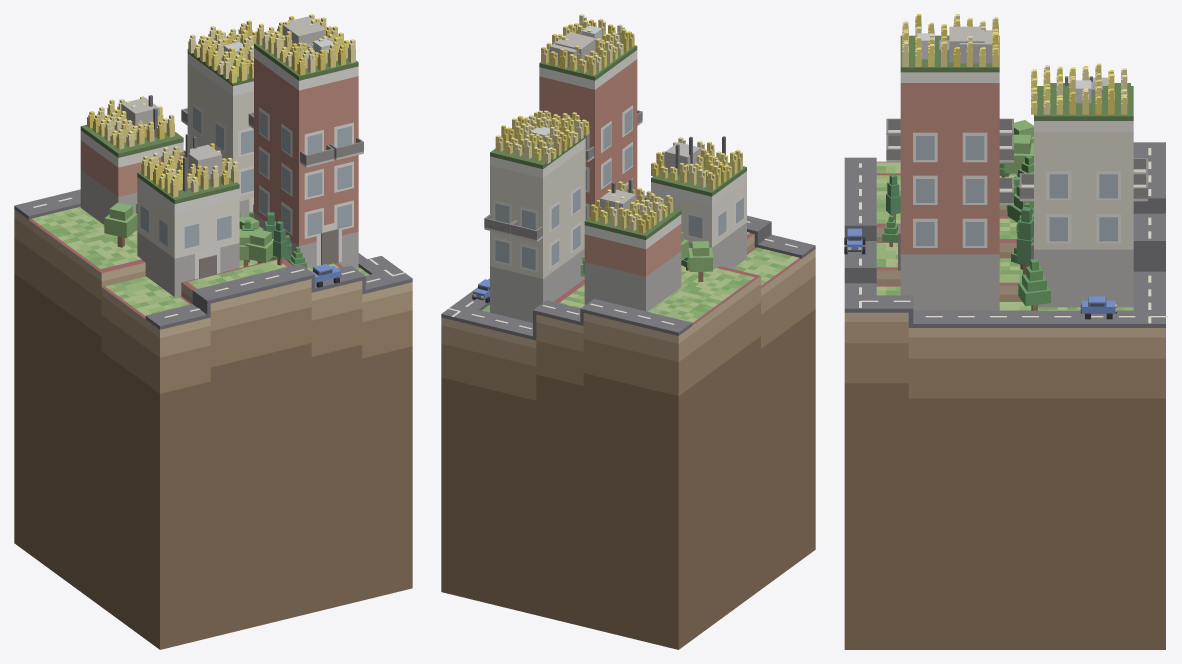
File: block_22_urbanfarm_40.glb
The picture shows the model from 3 angles, left to right: view 1: azimuth 30°, elevation 25°; view 2: azimuth 150°, elevation 25°; view 3: azimuth 270°, elevation 25°; orthographic projection. The views are drawn at different scales.
Parts seen in each view (by area): view 1: Patch_UpperRight_b21_UF, ResidBldgs_b22_UF, Roads_UpperRight_b21_UF, Green_UpperRight_b22_UF, UFR_ResidBldgs_b22_UF, URTree_22_2_UF, URTree_22_7_UF; view 2: Patch_UpperRight_b21_UF, ResidBldgs_b22_UF, Roads_UpperRight_b21_UF, Green_UpperRight_b22_UF, UFR_ResidBldgs_b22_UF, URTree_22_2_UF; view 3: Patch_UpperRight_b21_UF, ResidBldgs_b22_UF, Roads_UpperRight_b21_UF, UFR_ResidBldgs_b22_UF, Green_UpperRight_b22_UF, URTree_22_21_UF, URTree_22_17_UF, RoadMarks_UpperRight_b21_UF, URTree_22_4_UF, RCar_12_UF, URTree_22_11_UF, RCar_8_UF.
Boxes of the visible parts, <box> form: Patch_UpperRight_b21_UF: <box>14,209,412,649</box>; ResidBldgs_b22_UF: <box>80,16,363,296</box>; Roads_UpperRight_b21_UF: <box>14,189,412,329</box>; Green_UpperRight_b22_UF: <box>32,206,369,315</box>; UFR_ResidBldgs_b22_UF: <box>80,43,358,203</box>; URTree_22_2_UF: <box>104,202,137,247</box>; URTree_22_7_UF: <box>245,229,273,263</box>; Patch_UpperRight_b21_UF: <box>441,233,815,649</box>; ResidBldgs_b22_UF: <box>484,25,746,322</box>; Roads_UpperRight_b21_UF: <box>441,215,815,340</box>; Green_UpperRight_b22_UF: <box>482,232,798,322</box>; UFR_ResidBldgs_b22_UF: <box>490,45,746,239</box>; URTree_22_2_UF: <box>688,241,712,282</box>; Patch_UpperRight_b21_UF: <box>844,161,1165,649</box>; ResidBldgs_b22_UF: <box>886,26,1147,310</box>; Roads_UpperRight_b21_UF: <box>844,142,1165,327</box>; UFR_ResidBldgs_b22_UF: <box>900,35,1133,120</box>; Green_UpperRight_b22_UF: <box>876,162,1133,310</box>; URTree_22_21_UF: <box>1018,259,1050,310</box>; URTree_22_17_UF: <box>1016,206,1033,274</box>; RoadMarks_UpperRight_b21_UF: <box>859,148,1167,323</box>; URTree_22_4_UF: <box>1004,134,1033,175</box>; RCar_12_UF: <box>1080,296,1116,319</box>; URTree_22_11_UF: <box>886,174,900,221</box>; RCar_8_UF: <box>844,228,865,254</box>.
Size of the model in its own units: 9.5 by 19.27 by 9.55.
